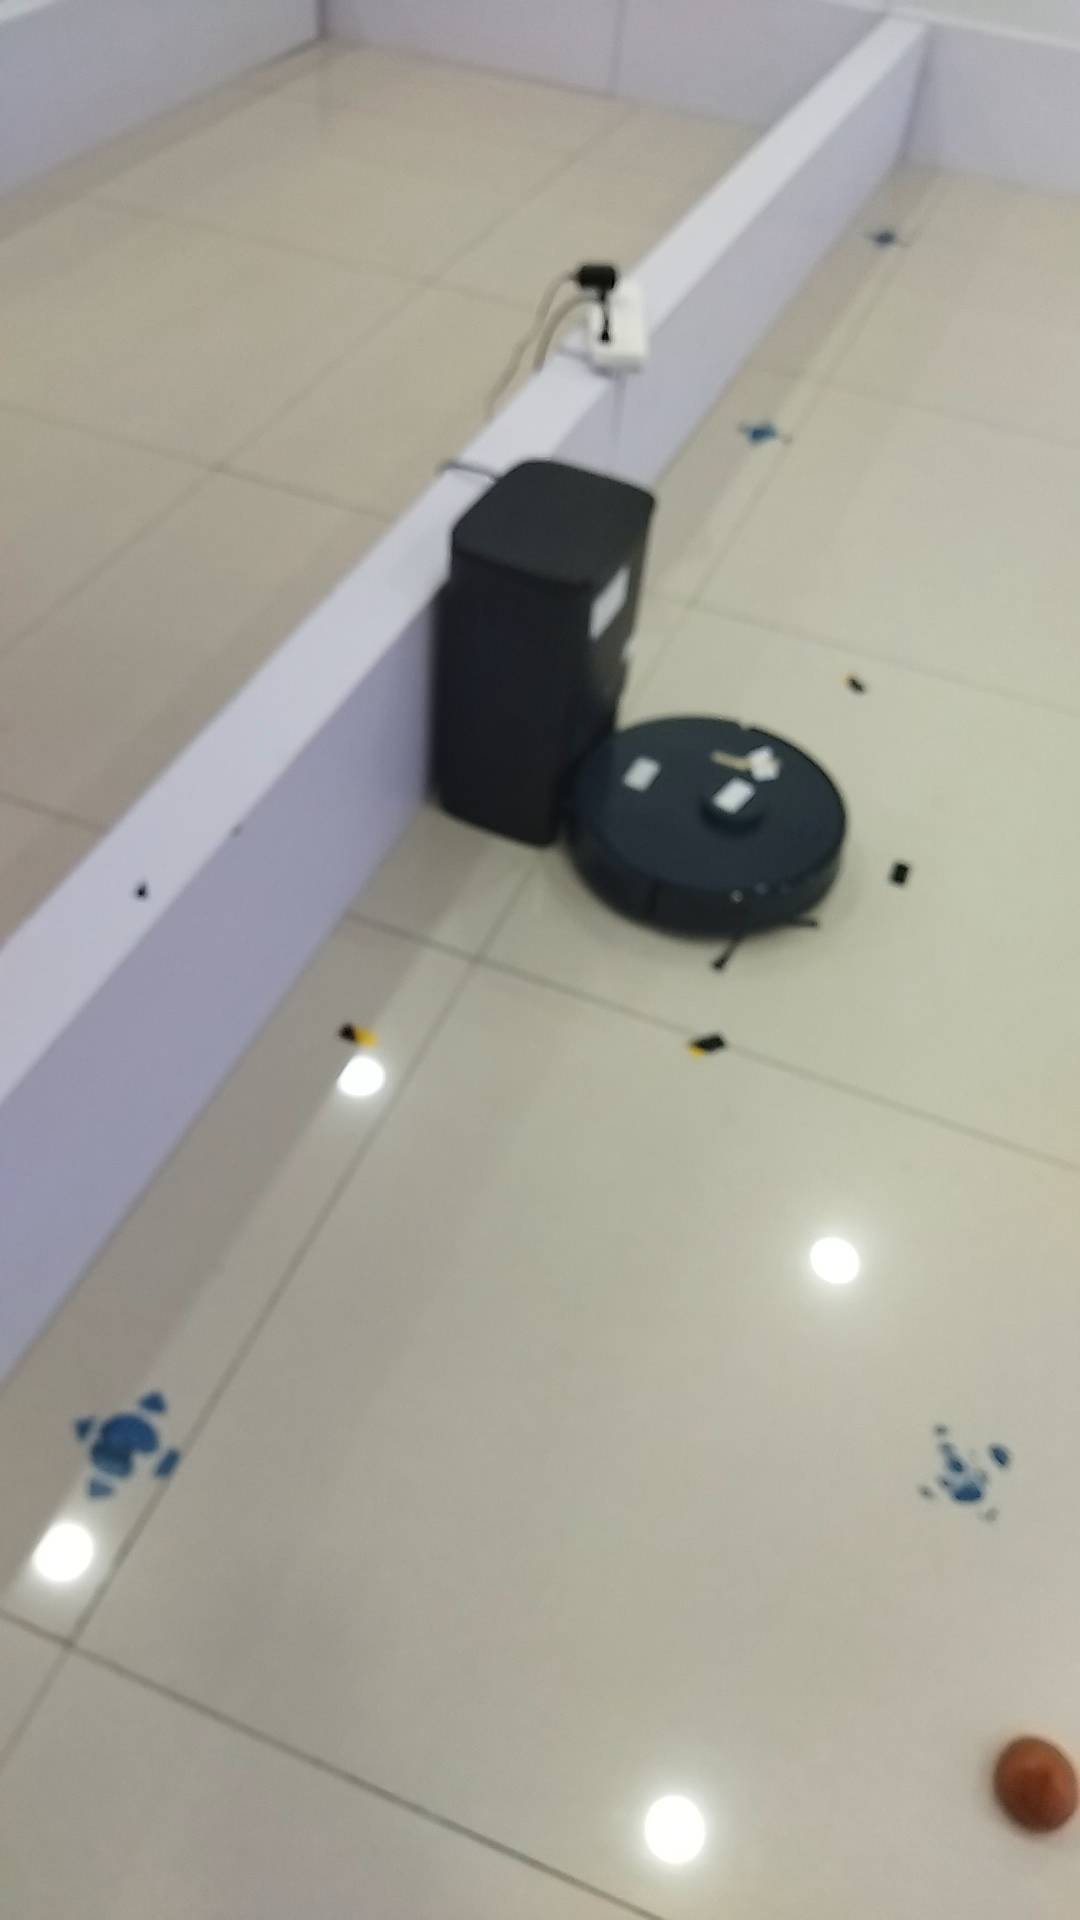dust collecting barrel: (433, 462, 659, 848)
